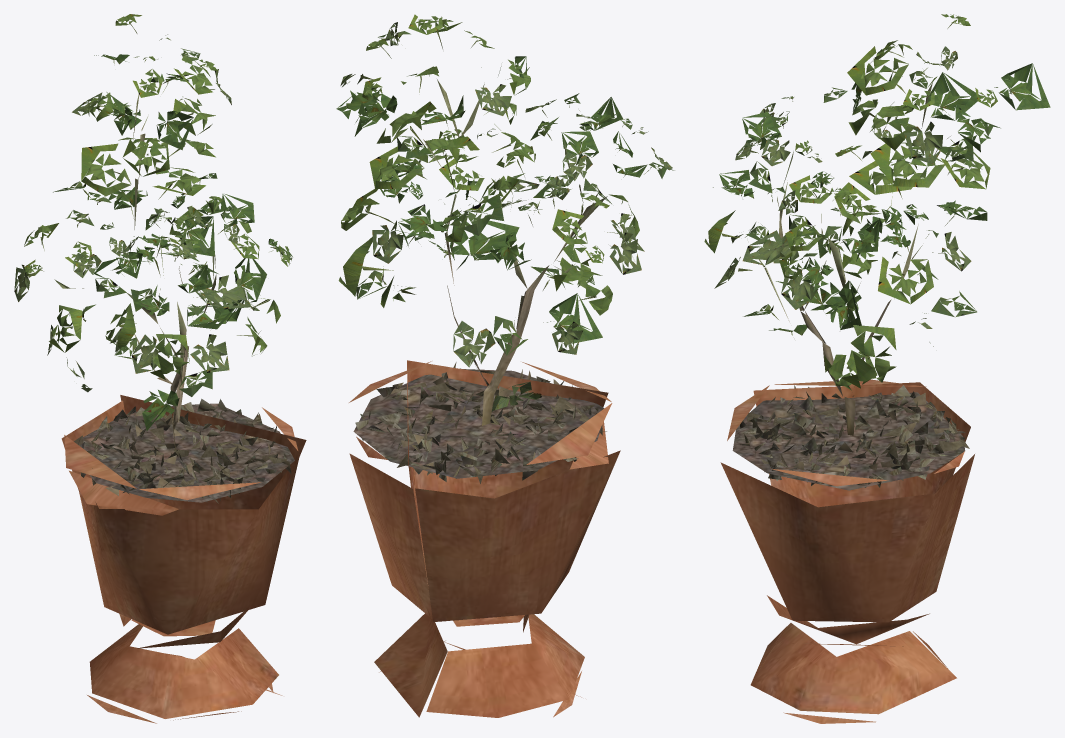
Rendered from potted_plant.glb.
3 views of the same model, side by side, from view 1: azimuth 30°, elevation 25°; view 2: azimuth 150°, elevation 25°; view 3: azimuth 270°, elevation 25° (orthographic). The views are drawn at different scales.
Visible parts, largest first — view 1: potted_plant; view 2: potted_plant; view 3: potted_plant.
Part boxes in pixels (x1,y1,x2,y2): potted_plant: (14,14,306,723); potted_plant: (336,14,674,717); potted_plant: (704,14,1050,723).
Bounding box in the file's own units: 0.5782 × 1.33 × 0.626.
2 materials, 2 textured.
